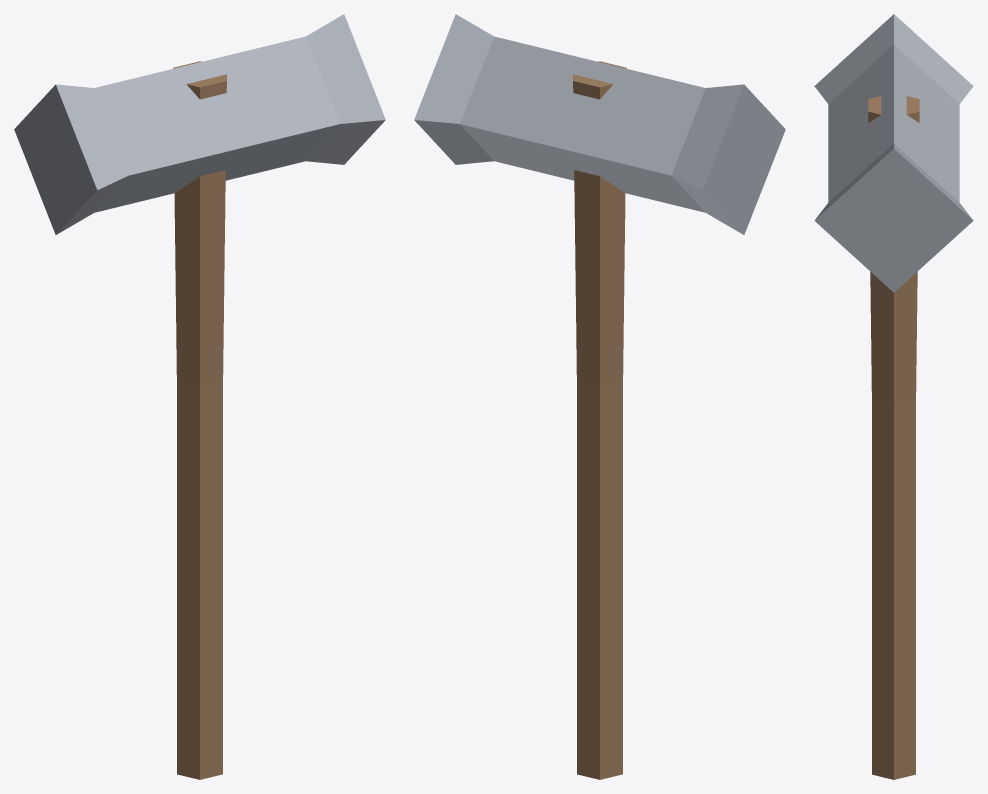
The model's file is hammer.glb.
The picture shows the model from 3 angles, left to right: view 1: azimuth 30°, elevation 25°; view 2: azimuth 150°, elevation 25°; view 3: azimuth 270°, elevation 25°; orthographic projection. The views are drawn at different scales.
Parts seen in each view (by area): view 1: Hammer; view 2: Hammer; view 3: Hammer.
Boxes of the visible parts, x1,y1,x2,y2 form: Hammer: (14, 14, 385, 779); Hammer: (414, 14, 785, 779); Hammer: (814, 14, 973, 779).
Bounding box in the file's own units: 0.3 × 0.715 × 0.15.
